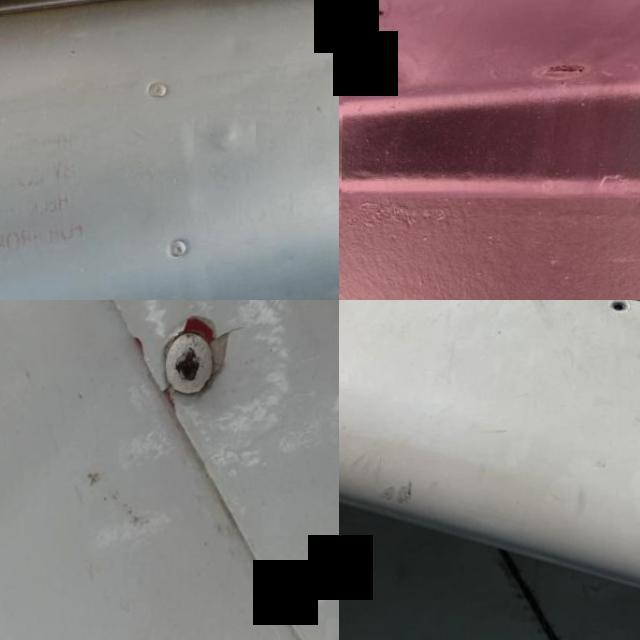Crack: (130, 301, 256, 464)
Dent: (195, 112, 258, 166)
Missing_Fastener: (604, 300, 639, 317)
